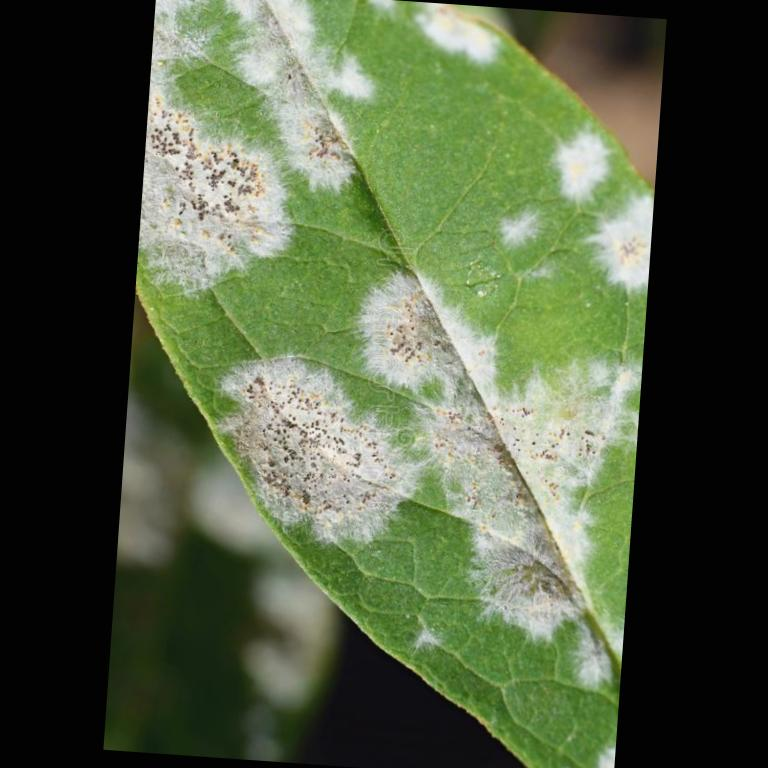powdery-mildew: (416, 281, 626, 650), (144, 11, 363, 302)
